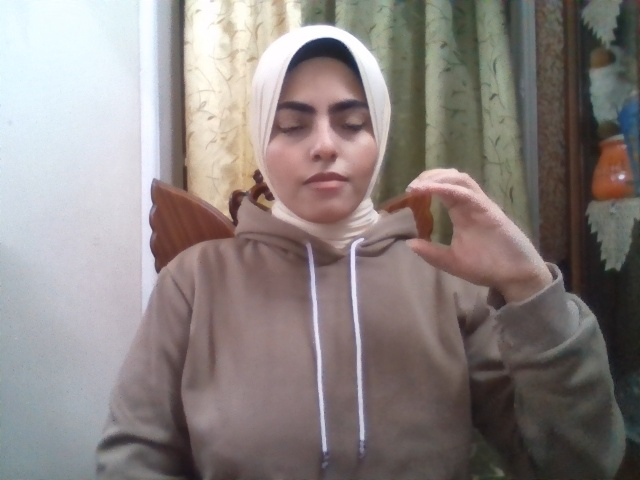C: (406, 168, 531, 285)
